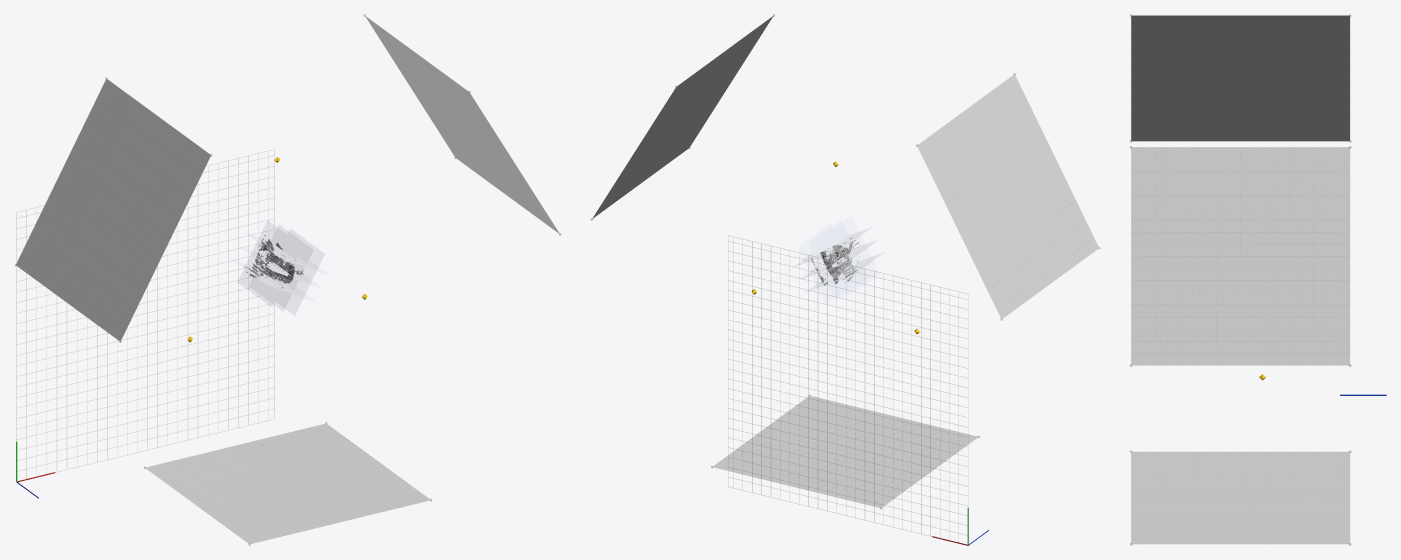
File: pearl3_shards.obj
3 renders of one model, left to right at view 1: azimuth 30°, elevation 25°; view 2: azimuth 150°, elevation 25°; view 3: azimuth 270°, elevation 25°, orthographic. The views are drawn at different scales.
Visible parts, largest first — view 1: wall_C, wall_A, wall_B, grid_floor, panel_F0p2, panel_F0p1, panel_F0p0, grid_wallA, grid_wallC; view 2: wall_C, wall_A, wall_B, grid_floor, panel_F0p2, panel_F0p1, panel_F0p0; view 3: wall_B, wall_C, wall_A, grid_wallB.
Boxes of the visible parts, x1=… form: wall_C: x1=16, y1=79, x2=210, y2=341; wall_A: x1=145, y1=423, x2=429, y2=543; wall_B: x1=365, y1=16, x2=559, y2=233; grid_floor: x1=16, y1=149, x2=274, y2=478; panel_F0p2: x1=238, y1=221, x2=301, y2=306; panel_F0p1: x1=250, y1=225, x2=312, y2=310; panel_F0p0: x1=276, y1=229, x2=324, y2=314; grid_wallA: x1=177, y1=424, x2=427, y2=540; grid_wallC: x1=17, y1=80, x2=192, y2=337; wall_C: x1=917, y1=74, x2=1098, y2=318; wall_A: x1=713, y1=396, x2=977, y2=507; wall_B: x1=592, y1=16, x2=773, y2=218; grid_floor: x1=728, y1=235, x2=968, y2=536; panel_F0p2: x1=819, y1=216, x2=878, y2=296; panel_F0p1: x1=809, y1=220, x2=867, y2=299; panel_F0p0: x1=798, y1=224, x2=843, y2=303; wall_B: x1=1131, y1=147, x2=1349, y2=365; wall_C: x1=1131, y1=15, x2=1349, y2=141; wall_A: x1=1131, y1=452, x2=1349, y2=544; grid_wallB: x1=1131, y1=147, x2=1349, y2=365.
Size of the model in its own units: 4394 by 3809 by 2115.
